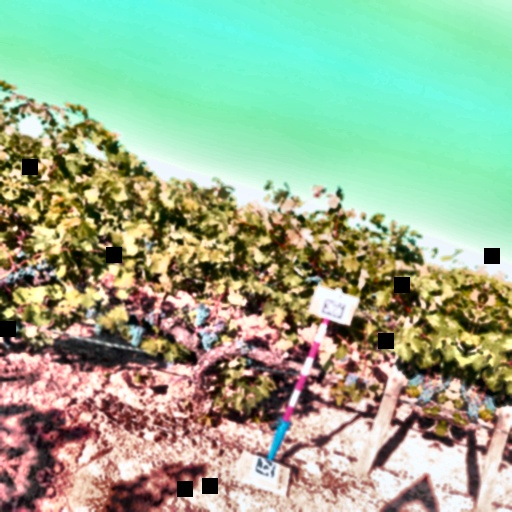QR: (320, 297, 347, 321), (253, 456, 279, 479)
